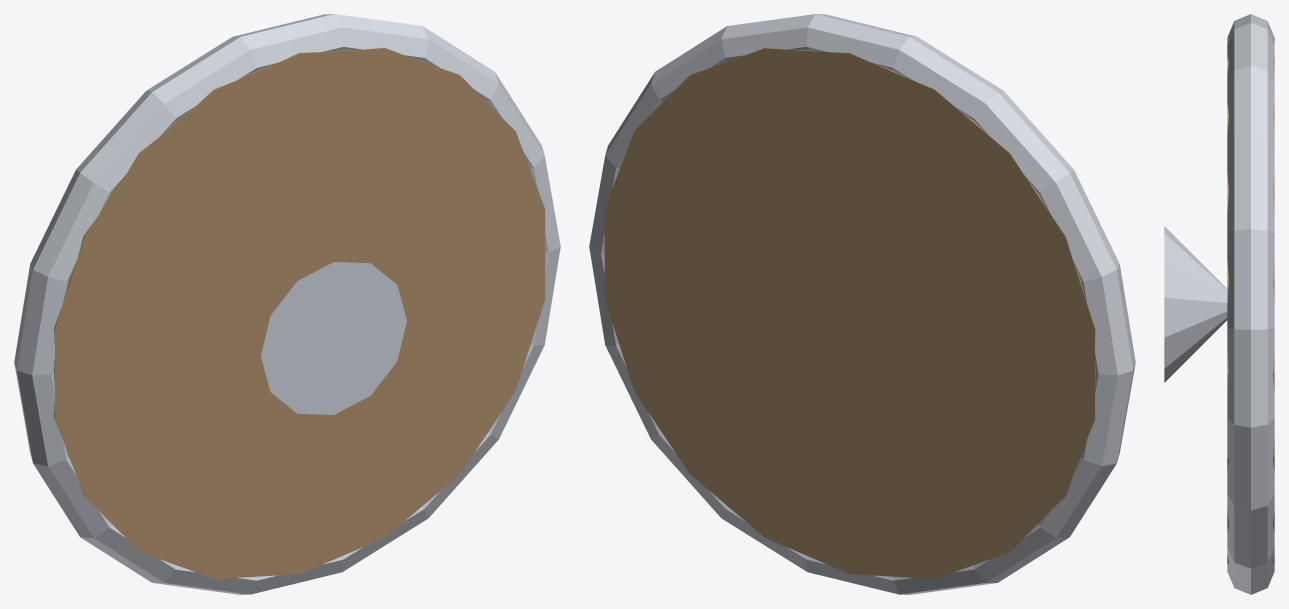
File: shield.glb
3 renders of one model, left to right at view 1: azimuth 30°, elevation 25°; view 2: azimuth 150°, elevation 25°; view 3: azimuth 270°, elevation 25°, orthographic. The views are drawn at different scales.
Visible parts, largest first — view 1: shield; view 2: shield; view 3: shield.
Part boxes in pixels (x1,y1,x2,y2): shield: [14, 14, 560, 594]; shield: [589, 14, 1135, 594]; shield: [1164, 14, 1274, 594].
Size of the model in its own units: 0.74 by 0.7288 by 0.14.
